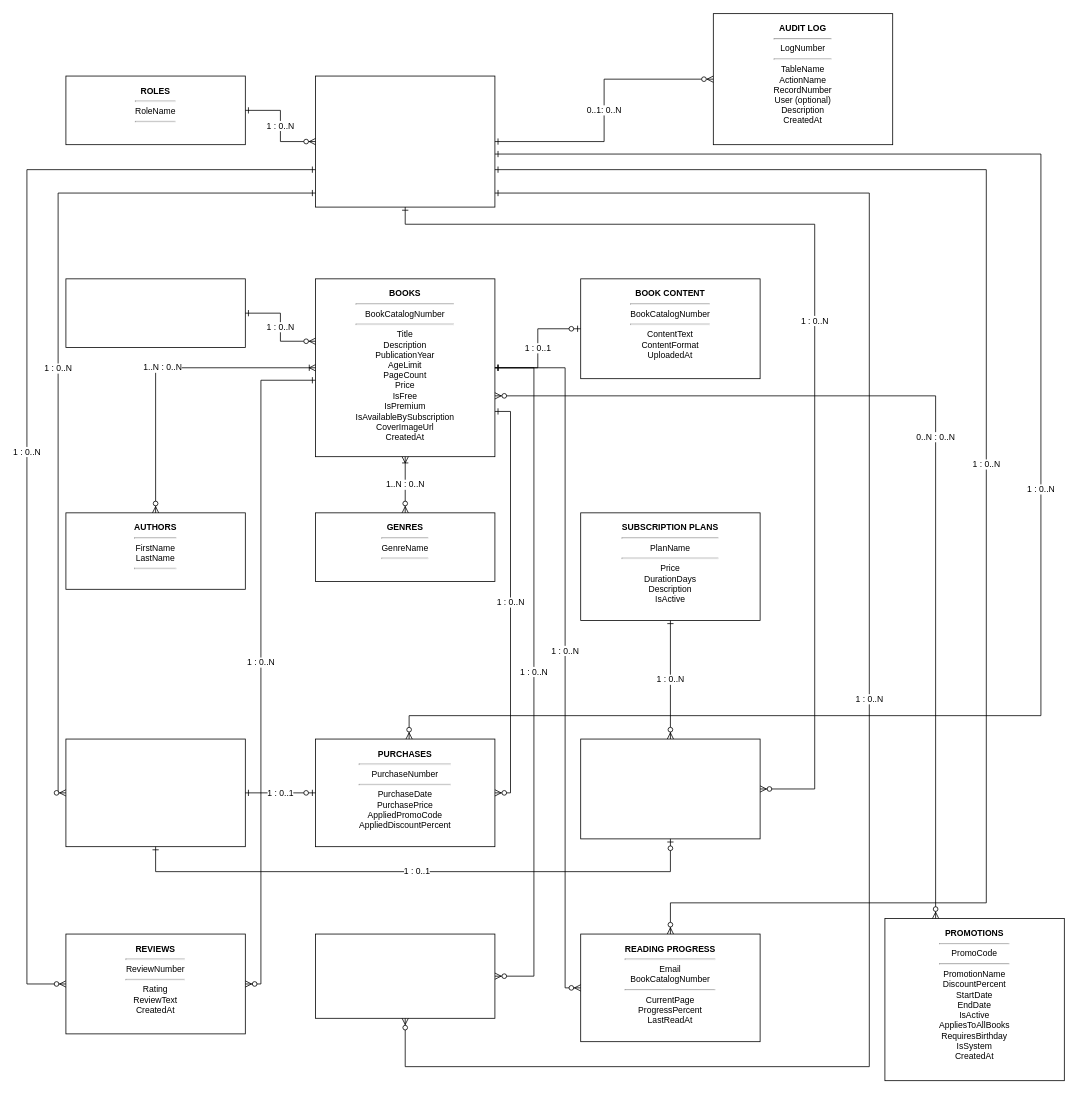
Some shapes in this 1078 by 1094 pixel diagram are drawn without their labels. Here are the shapes that lost their labels. From the top down, the centre of each, then its label:
At [405,141]: "USERS Email Username PasswordHash DateOfBirth RegistrationDate IsActive Balance".
At [155,312]: "PUBLISHERS PublisherName".
At [155,792]: "PAYMENTS TransactionNumber Amount PaymentDate PaymentMethod PaymentStatus".
At [670,788]: "USER SUBSCRIPTIONS SubscriptionNumber StartDate EndDate IsActive".
At [405,975]: "FAVORITES Email BookCatalogNumber AddedAt".
